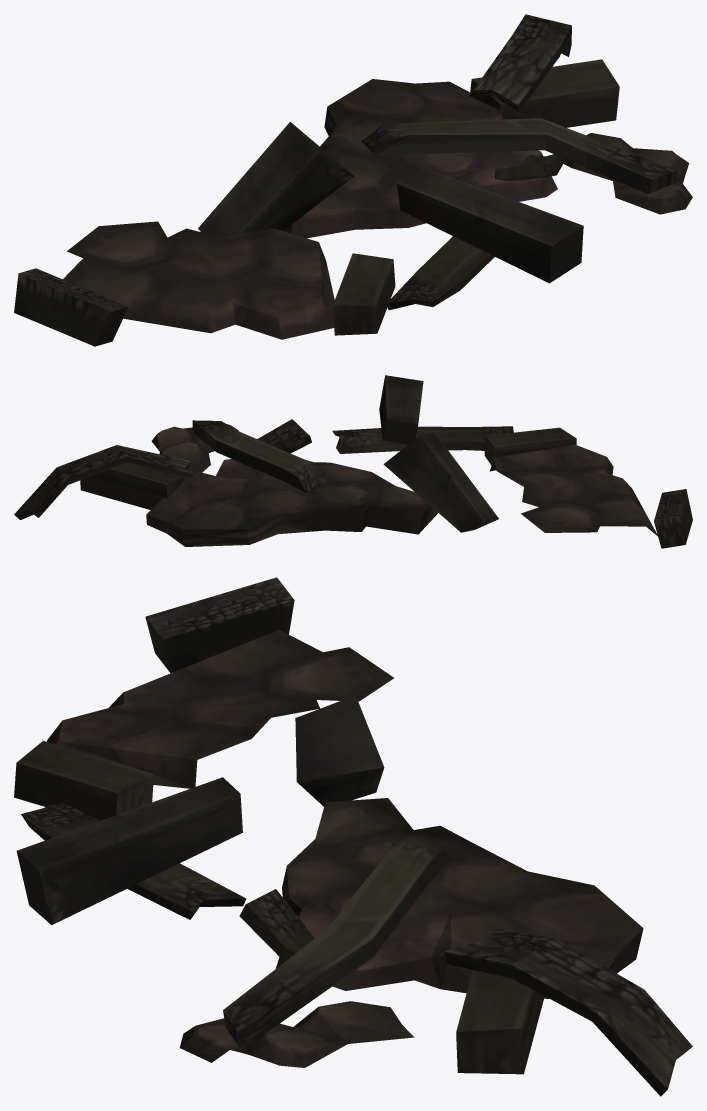
Rendered from debris_piles_burnt_08.fbx.
3 views of the same model, one above another, from view 1: azimuth 30°, elevation 25°; view 2: azimuth 150°, elevation 25°; view 3: azimuth 270°, elevation 25° (orthographic). The views are drawn at different scales.
Visible parts, largest first — view 1: obj0.443; view 2: obj0.443; view 3: obj0.443.
Part boxes in pixels (box(x1,y1,x2,y2)): obj0.443: box(14, 14, 692, 346); obj0.443: box(14, 375, 692, 548); obj0.443: box(14, 577, 692, 1096).
Bounding box in the file's own units: 6.31 × 1.01 × 4.07.
